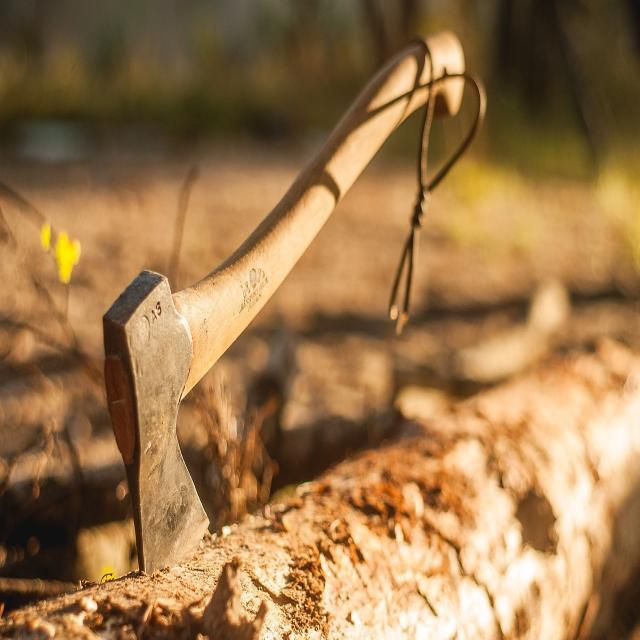Axe: (105, 34, 465, 572)
